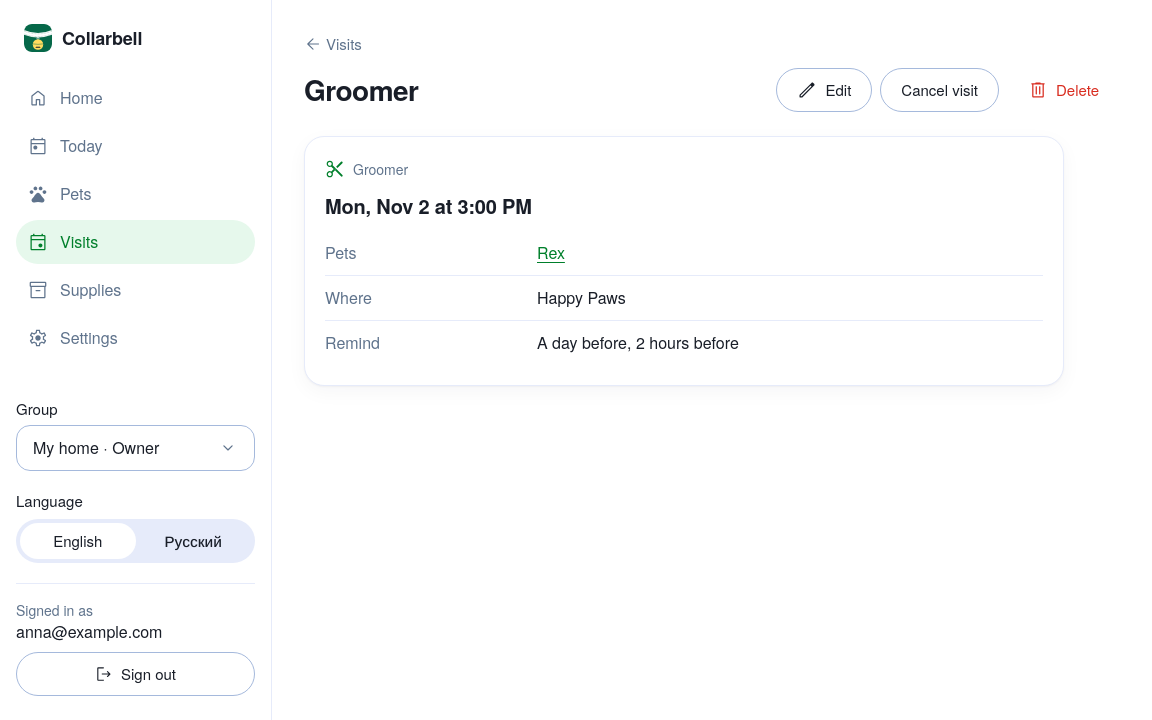
Test: visits › cancels a visit after asking, with the whole visit sent back
The image size is (1152, 720).
Click the button "Cancel visit": (940, 90) top-left (880, 68), bottom-right (999, 112)
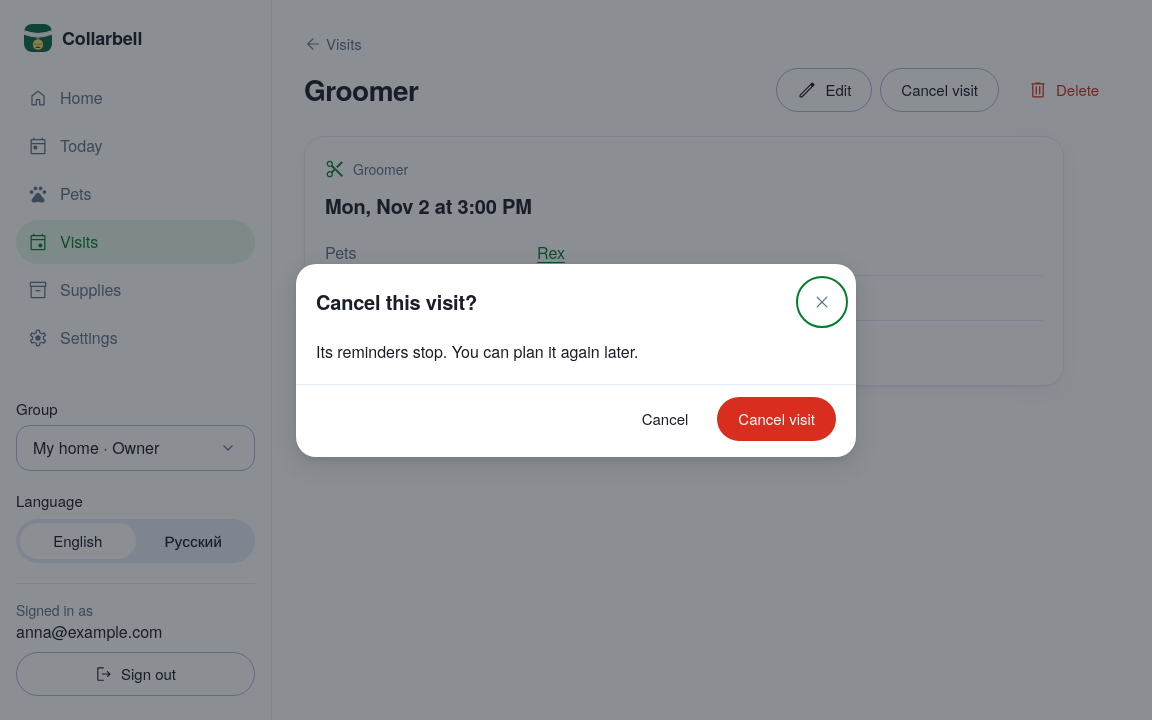
Click the button "Cancel visit": (777, 418) top-left (717, 396), bottom-right (836, 440)
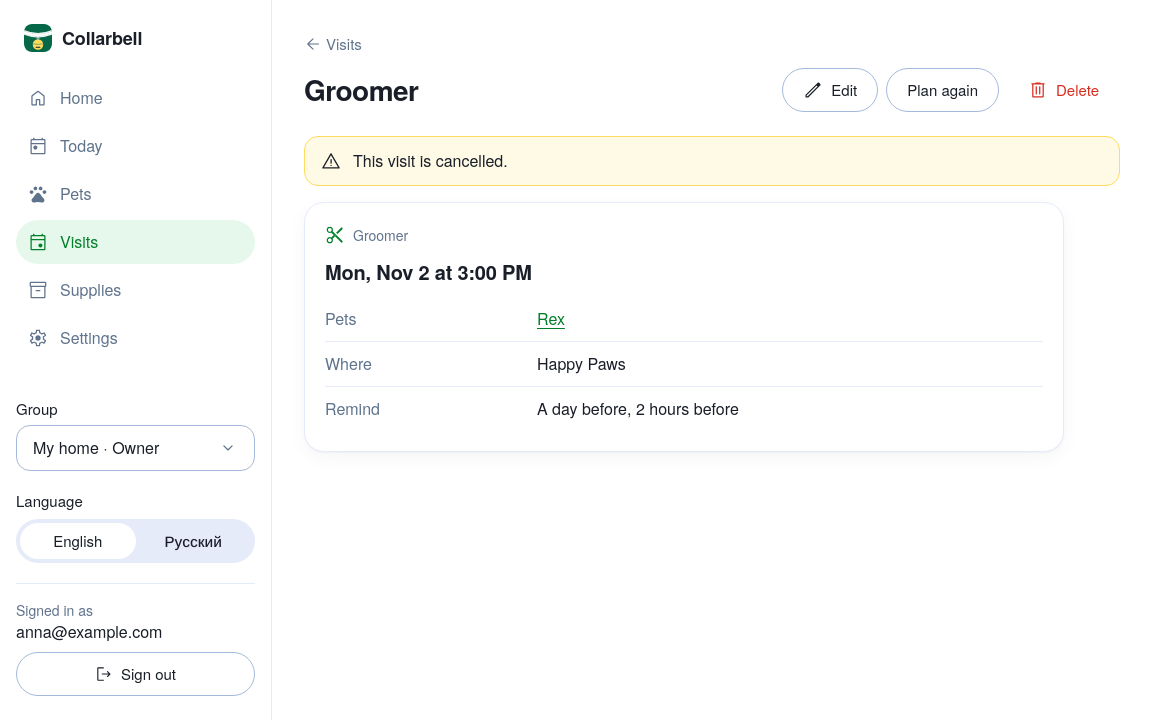
Check: the text "This visit is cancelled." is shown, box top-left (353, 149), bottom-right (508, 173)
Check: the button "Plan again" is shown, box top-left (886, 68), bottom-right (999, 112)
